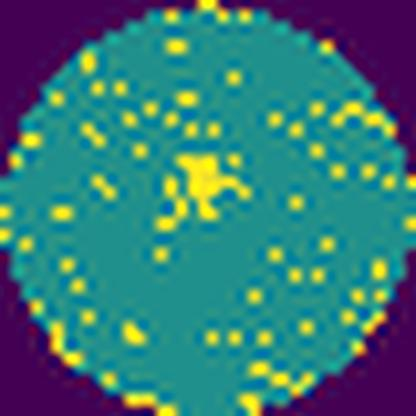Center: (176, 150, 252, 222)
